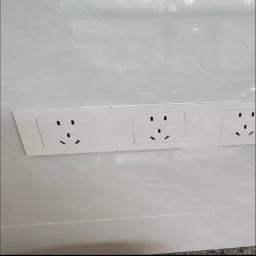outlet: (6, 98, 256, 155)
